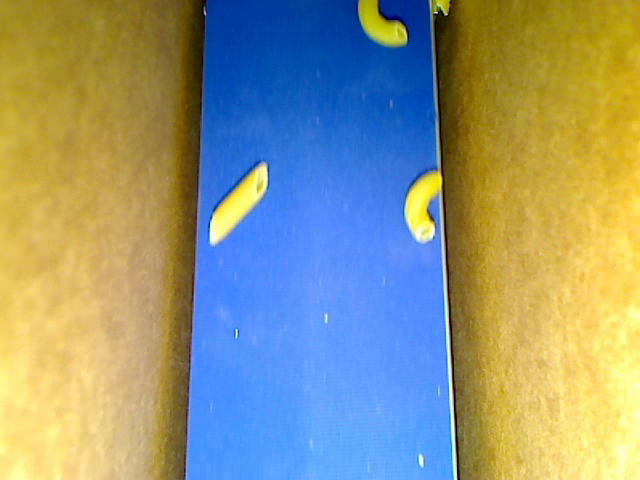elbow: (404, 168, 443, 245), (357, 1, 407, 48)
penne: (208, 161, 269, 247)
